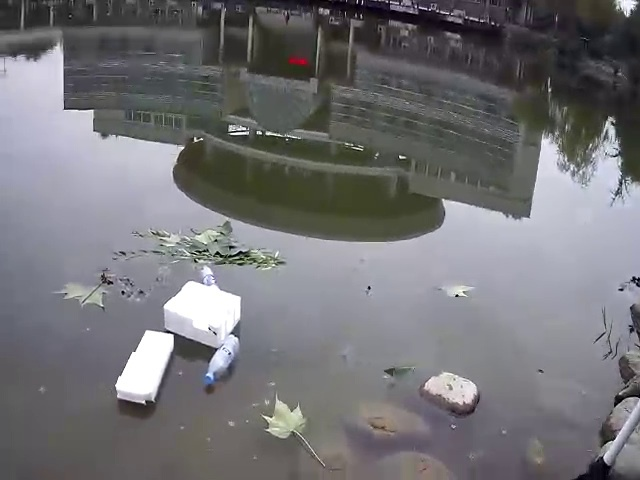bottle: (197, 335, 241, 382), (192, 263, 228, 290)
leaf: (134, 223, 289, 269), (52, 280, 115, 313), (263, 394, 309, 439), (383, 361, 421, 388), (442, 282, 480, 305)
paomo: (163, 279, 244, 339), (118, 330, 178, 411)
